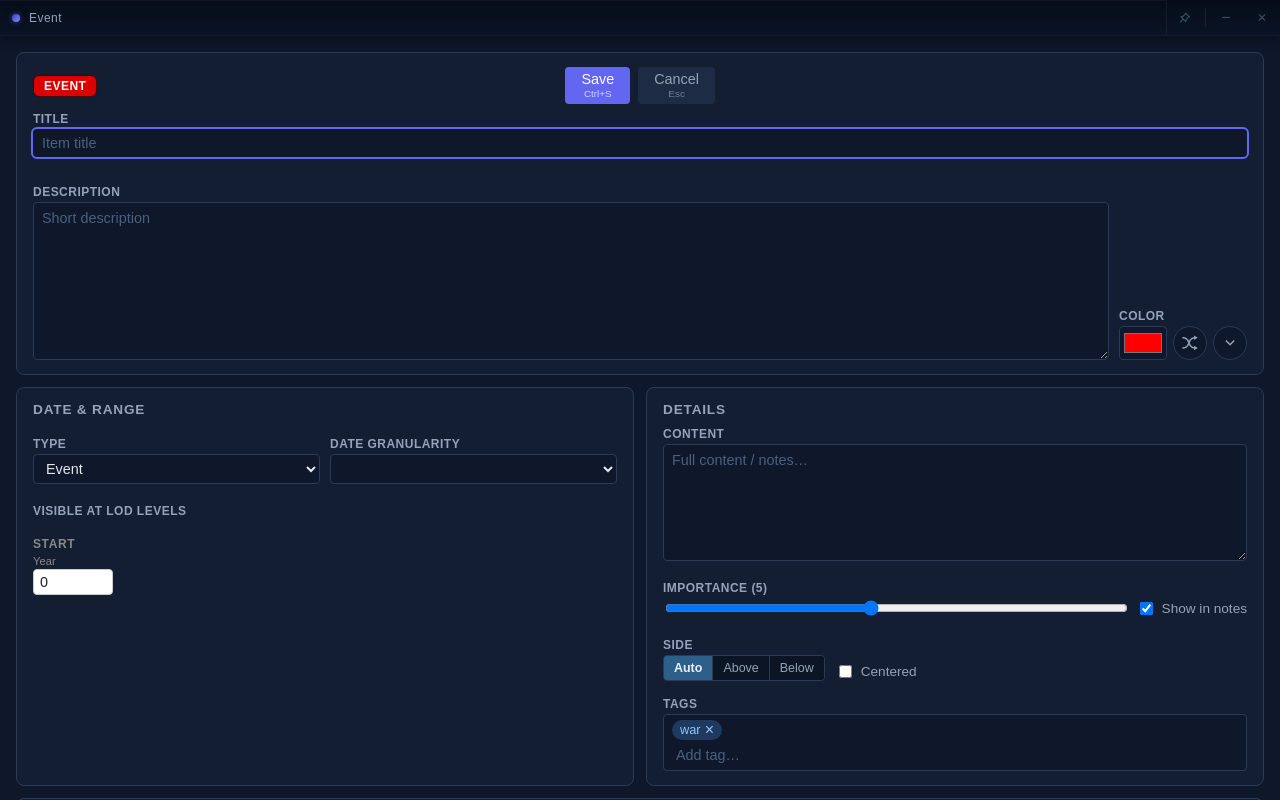
Test: EditItem page › title-bar X on a dirty form asks first instead of closing
Type "Changed" into the field with placeholder "Item title" at (640, 143), box top-left (33, 129), bottom-right (1247, 157)
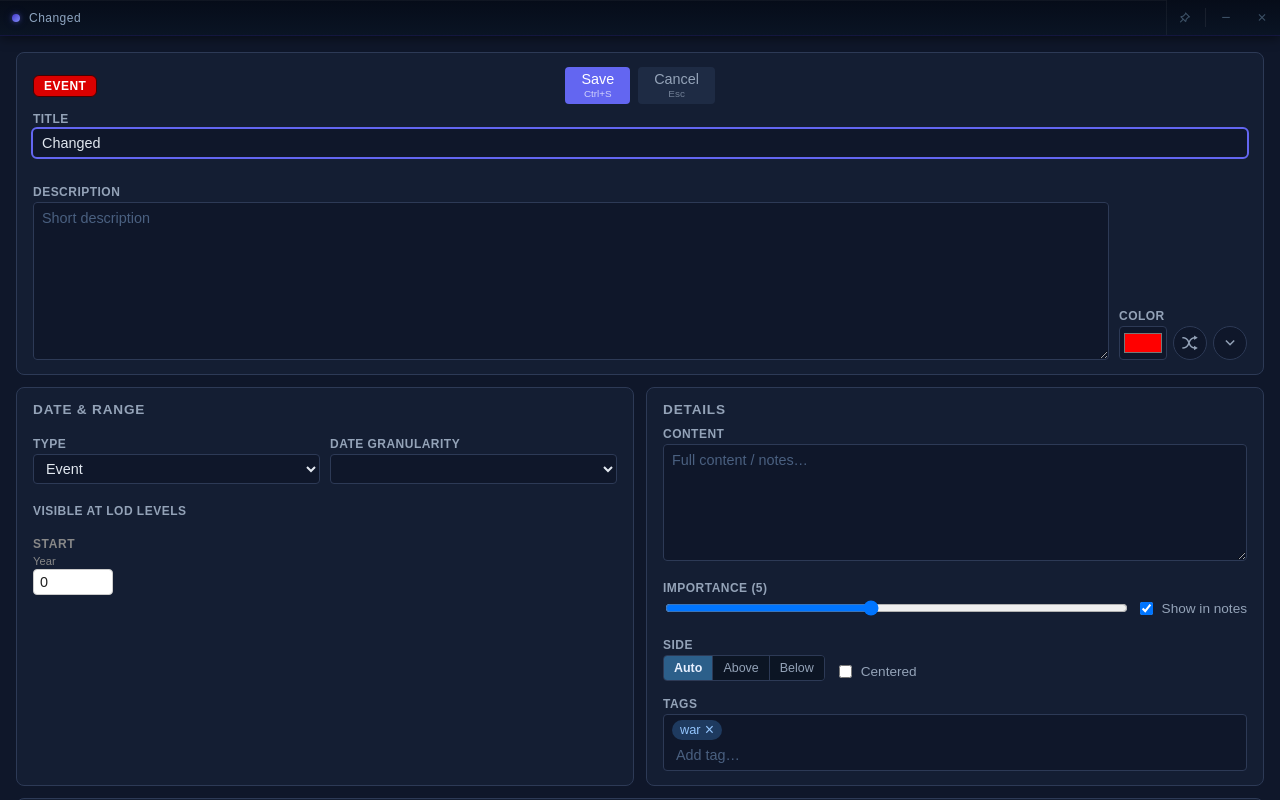
Click the button with class "tb-btn--close" at (1262, 18), box top-left (1244, 0), bottom-right (1279, 35)
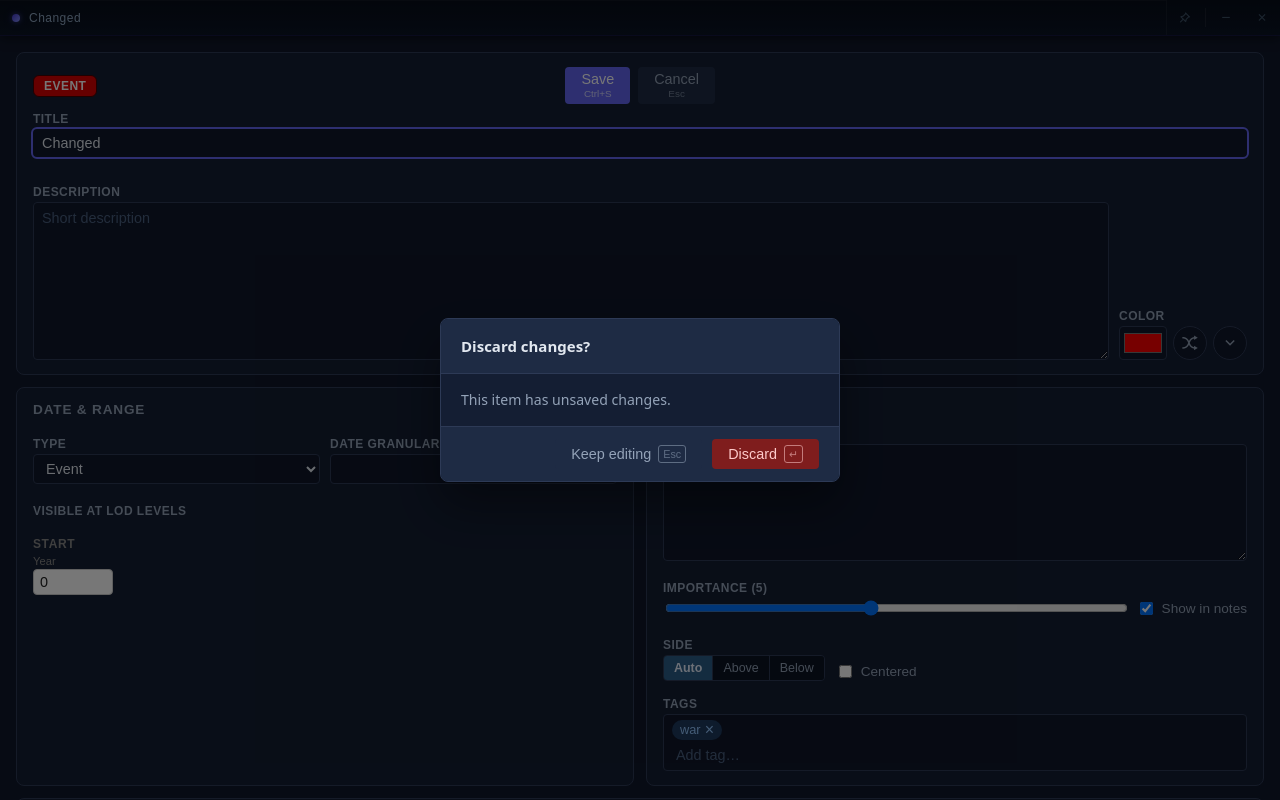
Now the text "Discard changes?" is shown, box top-left (461, 336), bottom-right (590, 356)
